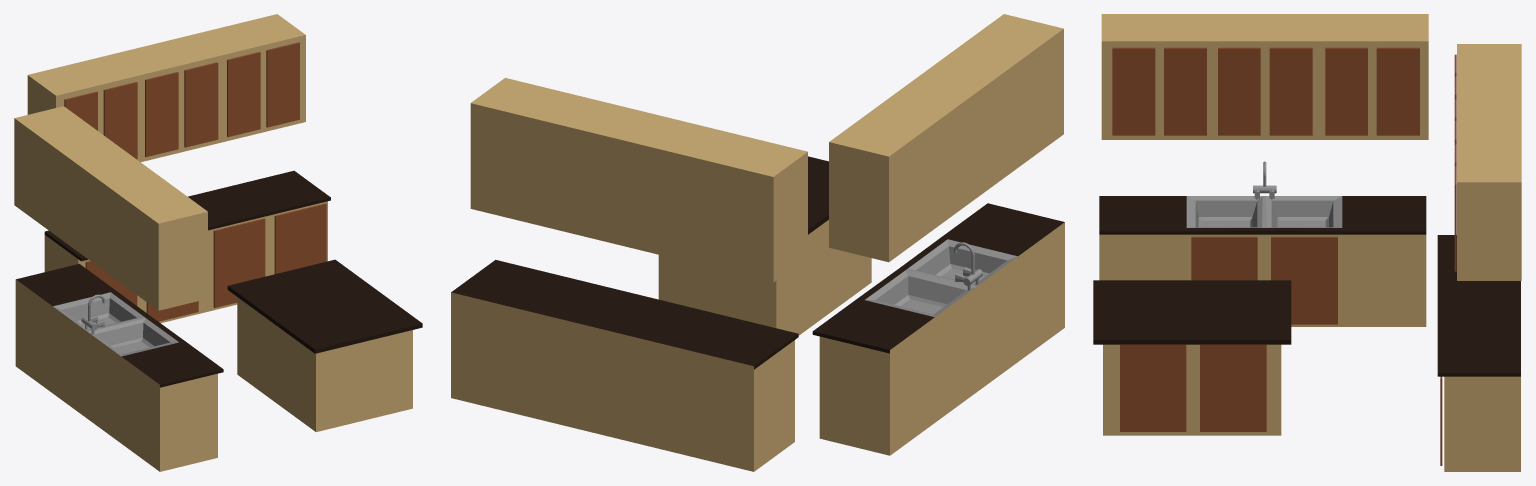
File: Kitchen.fbx
The picture shows the model from 3 angles, left to right: view 1: azimuth 30°, elevation 25°; view 2: azimuth 150°, elevation 25°; view 3: azimuth 270°, elevation 25°; orthographic projection. The views are drawn at different scales.
Parts seen in each view (by area): view 1: Sink, Hanging Cupboard, Cube, Hanging Cupboard.001, Cupboiard, Cupboard Doors.001, Cupboard Doors.006, Cupboard Doors.007, Cupboard Doors.008, Cupboard Doors.002; view 2: Cupboiard, Hanging Cupboard.001, Sink, Hanging Cupboard, Cube; view 3: Sink, Hanging Cupboard, Cube, Cupboiard, Hanging Cupboard.001, Cupboard Doors.009, Cupboard Doors, Cupboard Doors.003, Cupboard Doors.004, Cupboard Doors.005.
Boxes of the visible parts, <box> form: Sink: <box>15,264,223,471</box>; Hanging Cupboard: <box>14,106,207,310</box>; Cube: <box>227,259,422,431</box>; Hanging Cupboard.001: <box>27,14,305,162</box>; Cupboiard: <box>44,170,330,323</box>; Cupboard Doors.001: <box>213,203,326,307</box>; Cupboard Doors.006: <box>145,62,218,156</box>; Cupboard Doors.007: <box>227,42,299,136</box>; Cupboard Doors.008: <box>64,82,137,159</box>; Cupboard Doors.002: <box>85,261,198,321</box>; Cupboiard: <box>451,260,798,471</box>; Hanging Cupboard.001: <box>470,78,807,282</box>; Sink: <box>812,203,1064,455</box>; Hanging Cupboard: <box>829,14,1063,262</box>; Cube: <box>658,156,871,335</box>; Sink: <box>1099,161,1426,326</box>; Hanging Cupboard: <box>1101,14,1428,139</box>; Cube: <box>1093,280,1291,435</box>; Cupboiard: <box>1437,235,1520,471</box>; Hanging Cupboard.001: <box>1457,44,1521,280</box>; Cupboard Doors.009: <box>1120,344,1266,431</box>; Cupboard Doors: <box>1191,236,1337,324</box>; Cupboard Doors.003: <box>1218,47,1312,135</box>; Cupboard Doors.004: <box>1325,47,1419,135</box>; Cupboard Doors.005: <box>1112,47,1206,135</box>.
Size of the model in its own units: 385 by 284 by 393.
